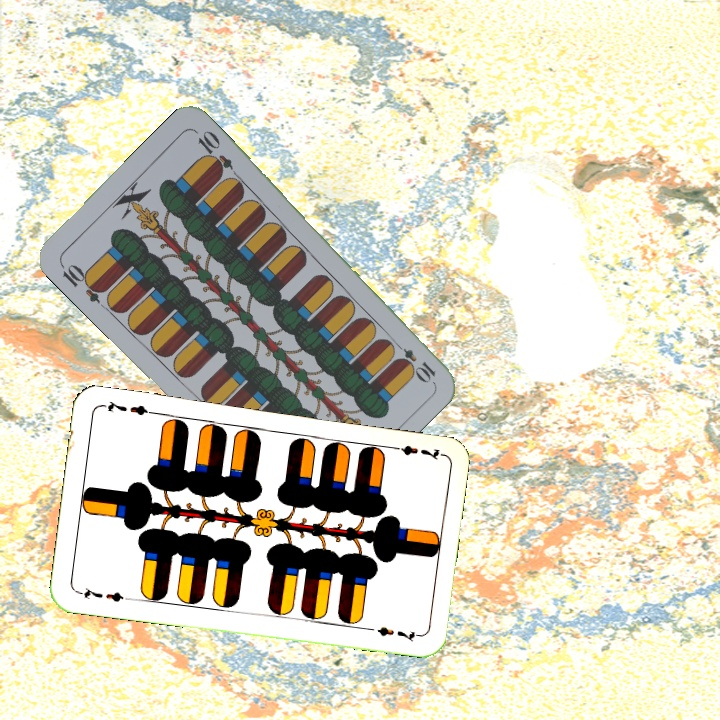E10: (56, 259, 109, 306), (388, 337, 438, 385)
E7: (74, 583, 133, 605), (385, 441, 444, 463)
